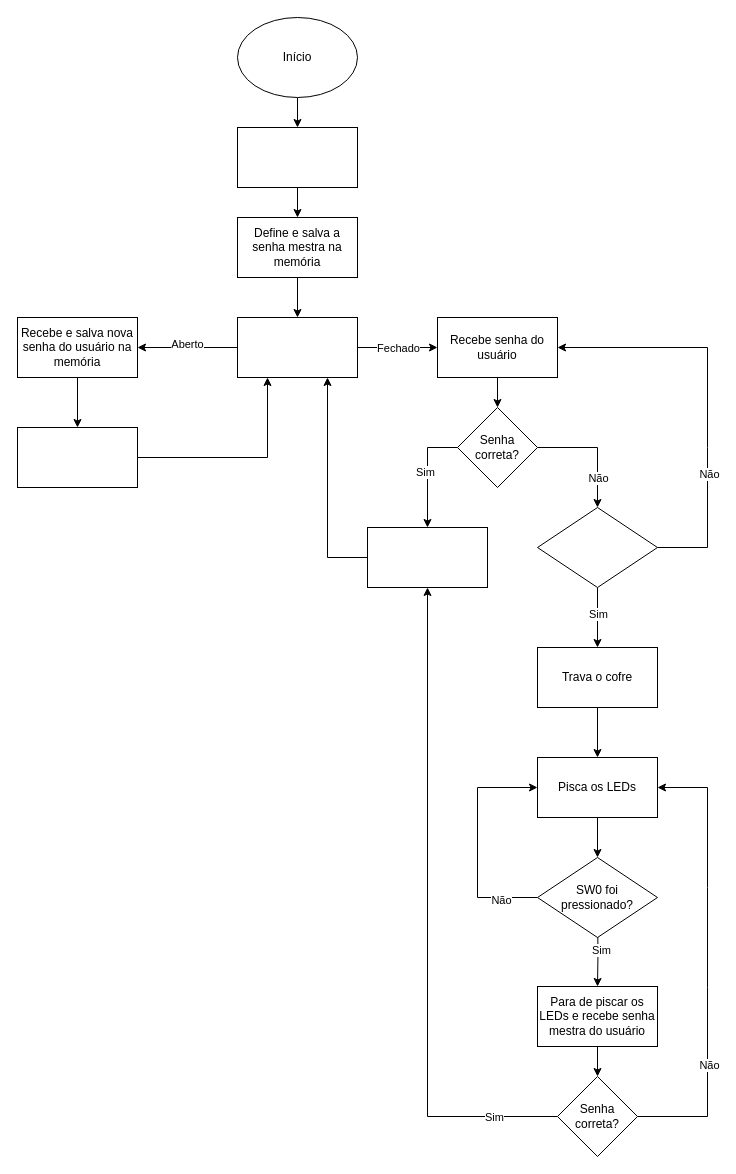
Some shapes in this 736 by 1174 pixel diagram are drawn without their labels. Each missing label, with the centre of its shape:
"Abre o cofre" goes at point (427, 557).
"Fecha o cofre" goes at point (77, 457).
"Inicializa GPIO, LCD e registradores" goes at point (297, 157).
"Terceira tentativa consecutiva?" goes at point (597, 547).
"Verifica o estado do cofre" goes at point (297, 347).
